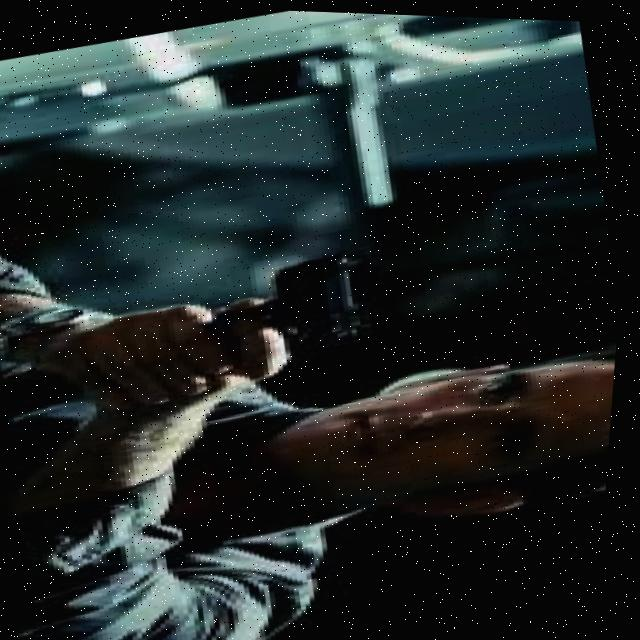pistol: (223, 244, 380, 358)
